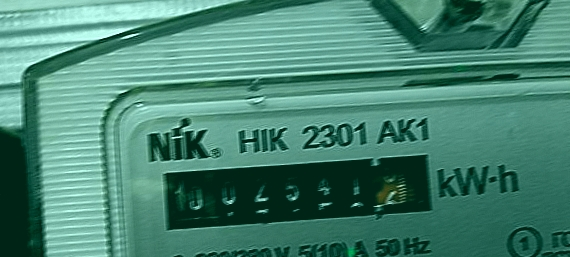0: (216, 173, 237, 208), (186, 181, 204, 211)
1: (344, 163, 362, 197)
2: (247, 171, 270, 206)
4: (313, 166, 332, 198)
5: (281, 171, 299, 204)
6: (380, 186, 397, 207)
screen: (147, 139, 452, 245)
